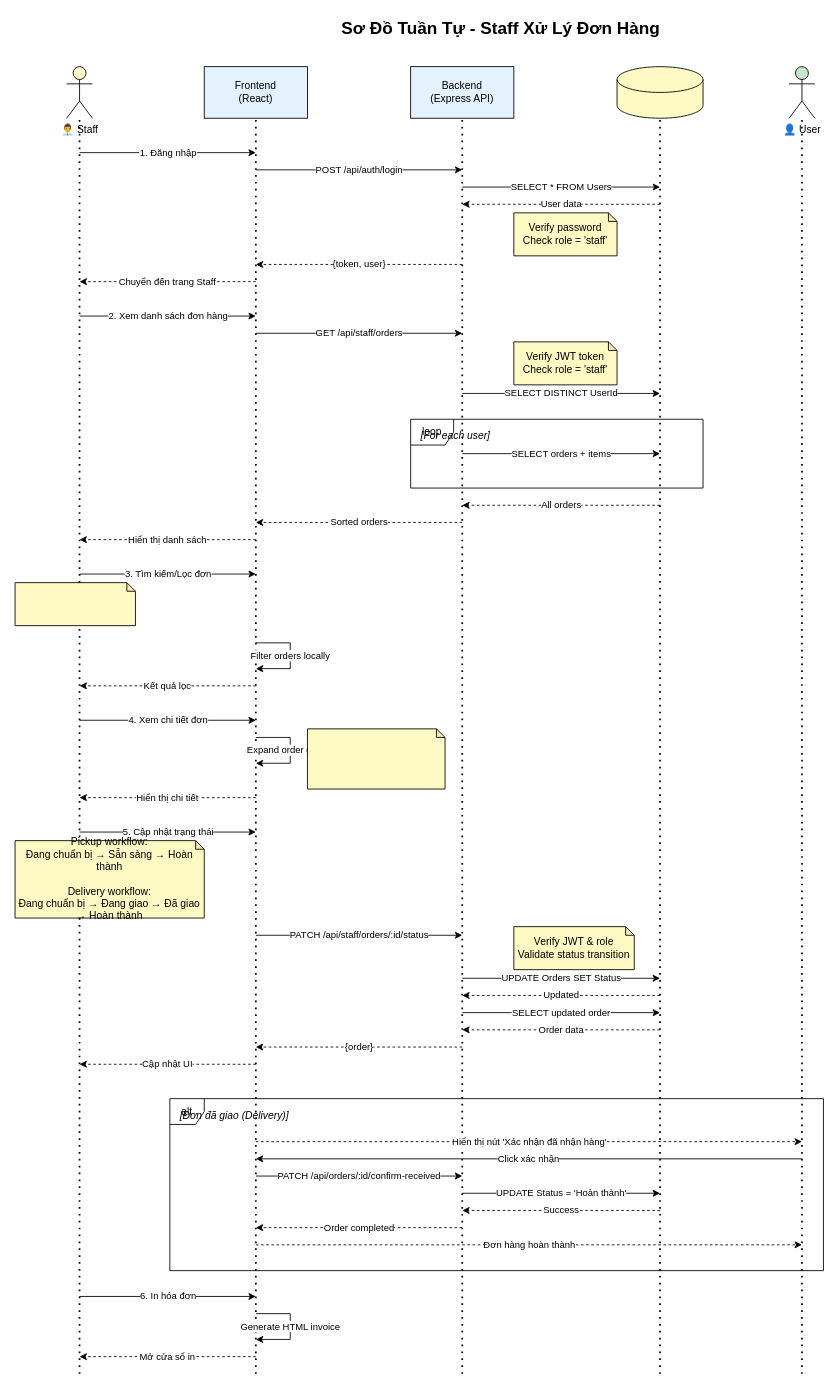
Some shapes in this 839 by 1390 pixel diagram are drawn without their labels. Each missing label, with the centre of its shape:
"- Tìm theo mã đơn - Lọc theo trạng thái" belongs at [74,604].
"Database (SQLite)" belongs at [659,92].
"Hiển thị: - Workflow animation - Danh sách sản phẩm - Thông tin khách hàng" belongs at [376,758].
